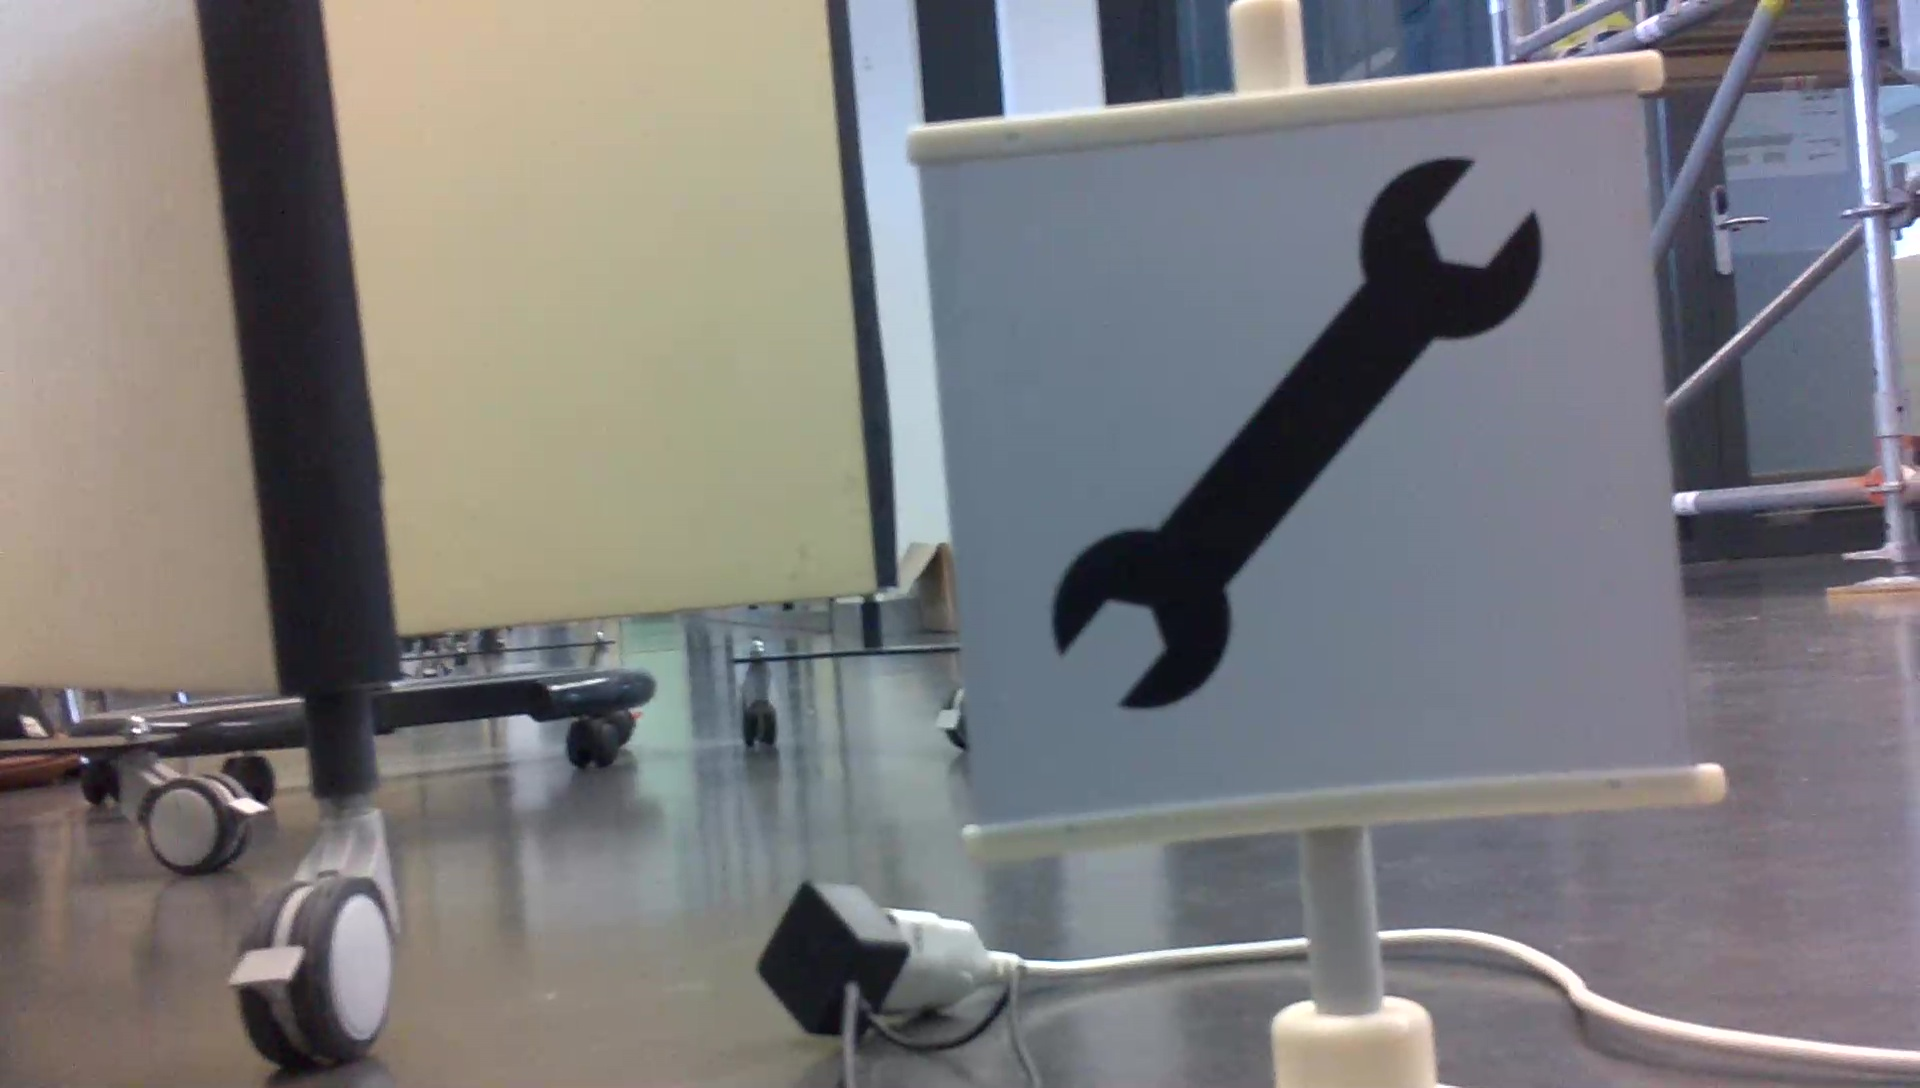wrench: (1044, 150, 1553, 715)
